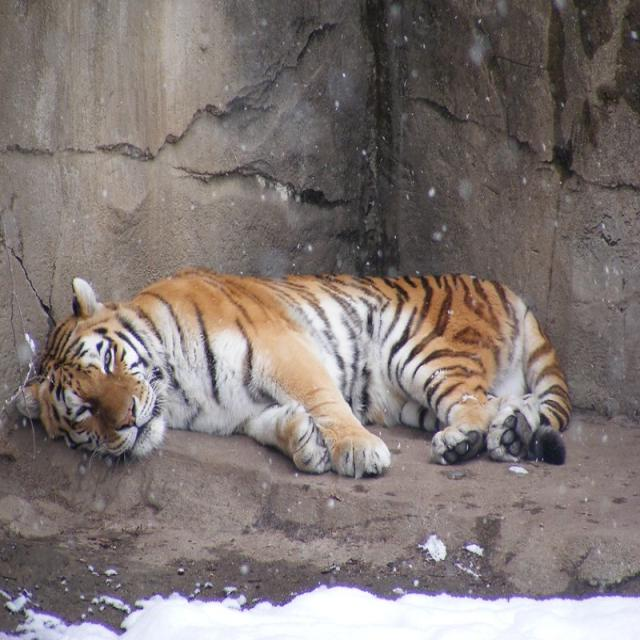Tiger: (11, 254, 588, 516)
